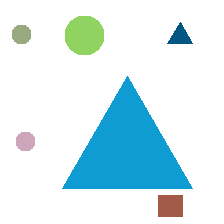circle: (65, 16, 103, 54), (12, 25, 30, 43), (16, 132, 34, 150)
rectangle: (158, 195, 182, 216)
triangle: (62, 76, 192, 188), (167, 22, 192, 43)
